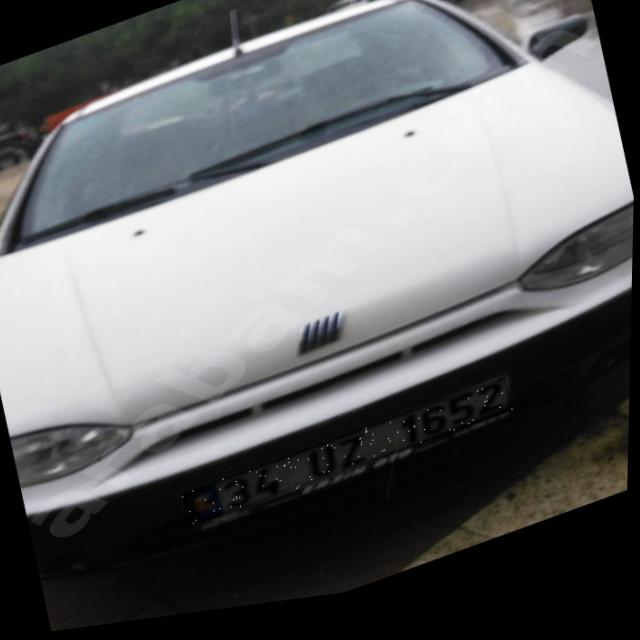license_plate: (183, 389, 516, 533)
